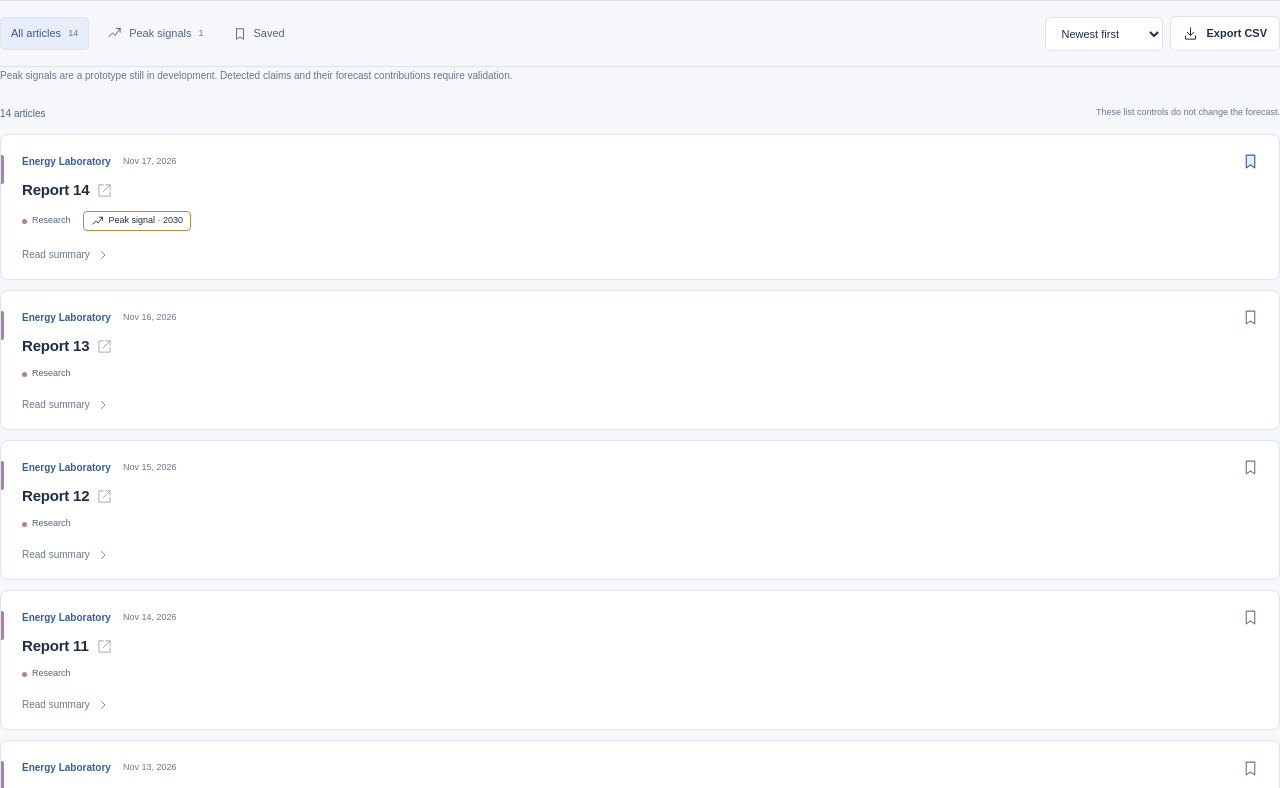
it: article controls using pipeline rows › persists saved URLs across remounts and filters the saved selection
This screenshot has width=1280, height=788.
Earlier steps of the test are not shown.
Step 1. Click the button "Saved" → x=259, y=34, box [222,17,296,50]
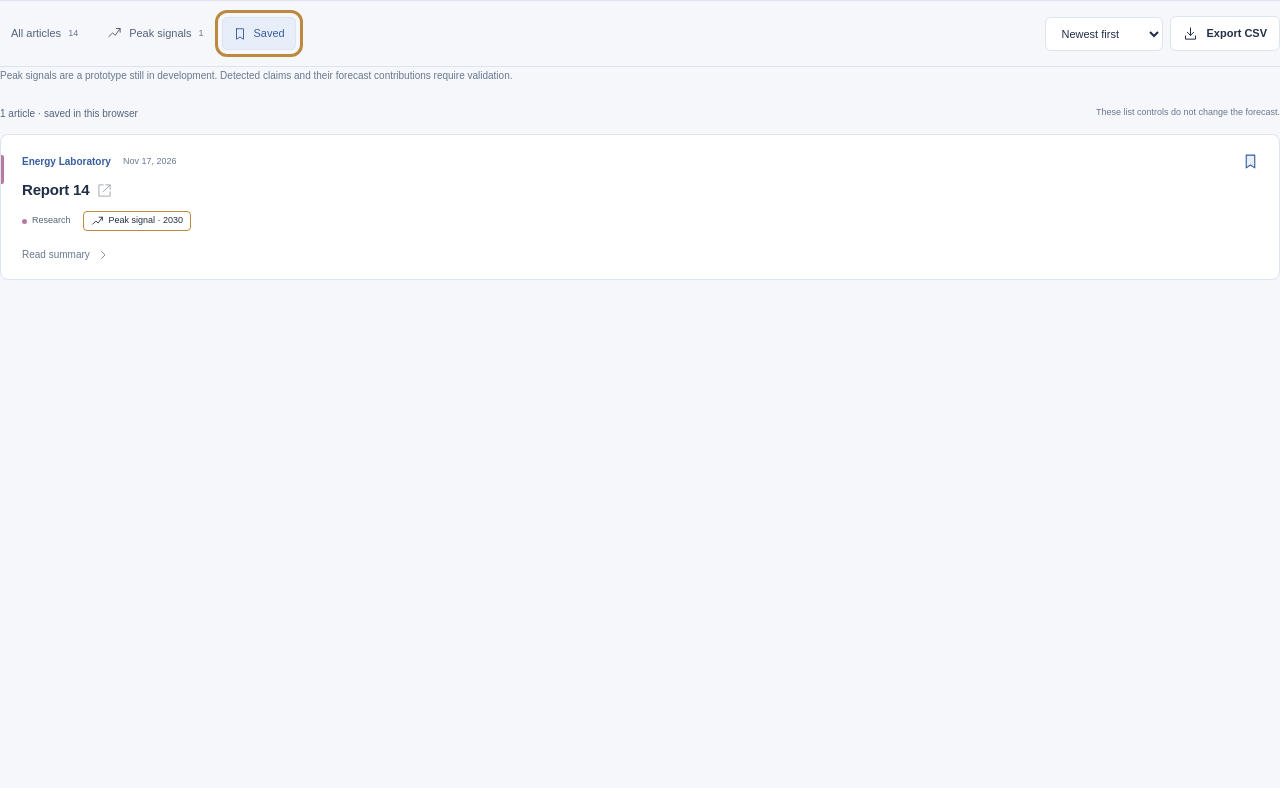
Step 2. Click the button named "Unsave article: Report 14" → x=1250, y=162, box [1236,148,1264,176]
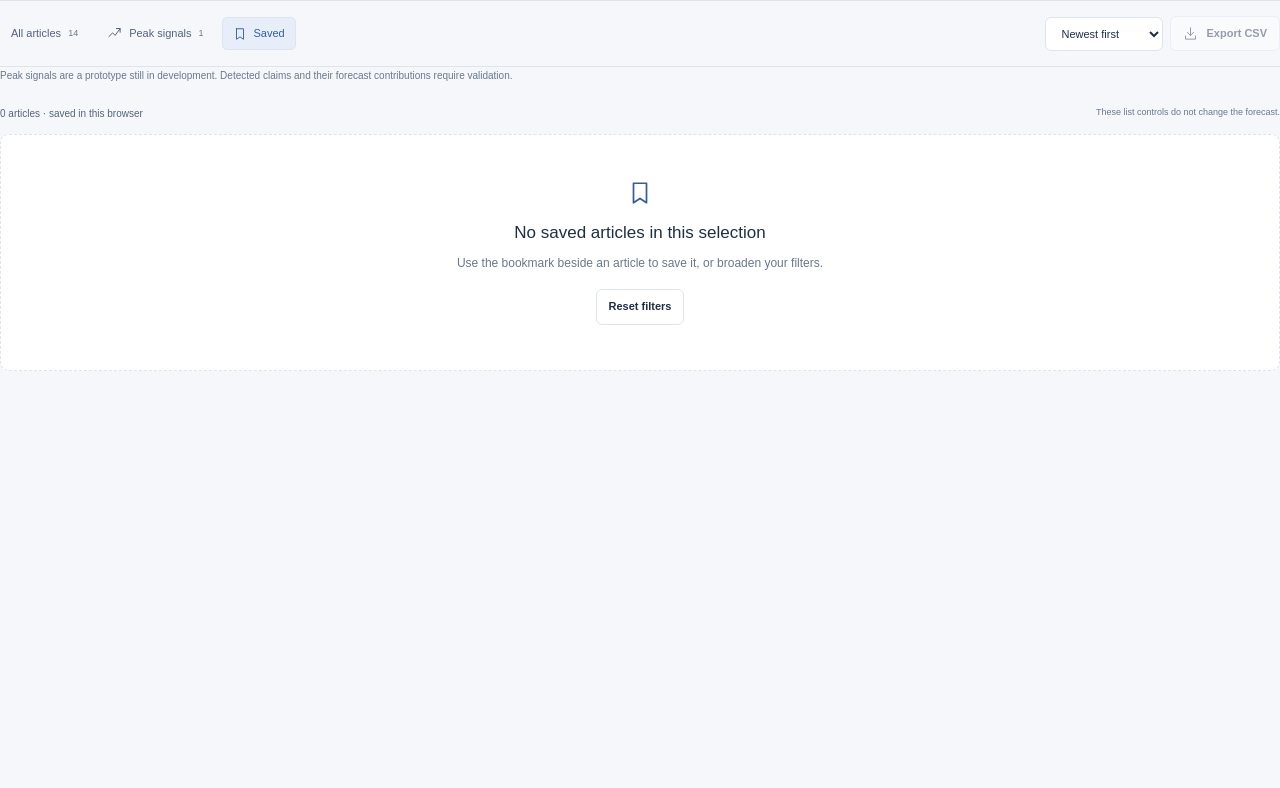
Expected: the heading "No saved articles in this selection" is shown, [514,222,766,242]
